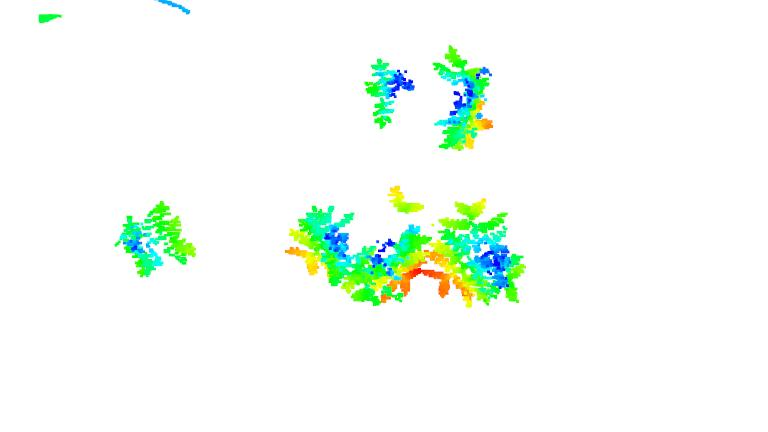chickpea: (439, 198, 528, 309), (282, 205, 363, 294), (358, 224, 442, 305), (114, 202, 201, 277), (434, 42, 494, 149), (358, 53, 416, 134), (378, 181, 429, 214)
